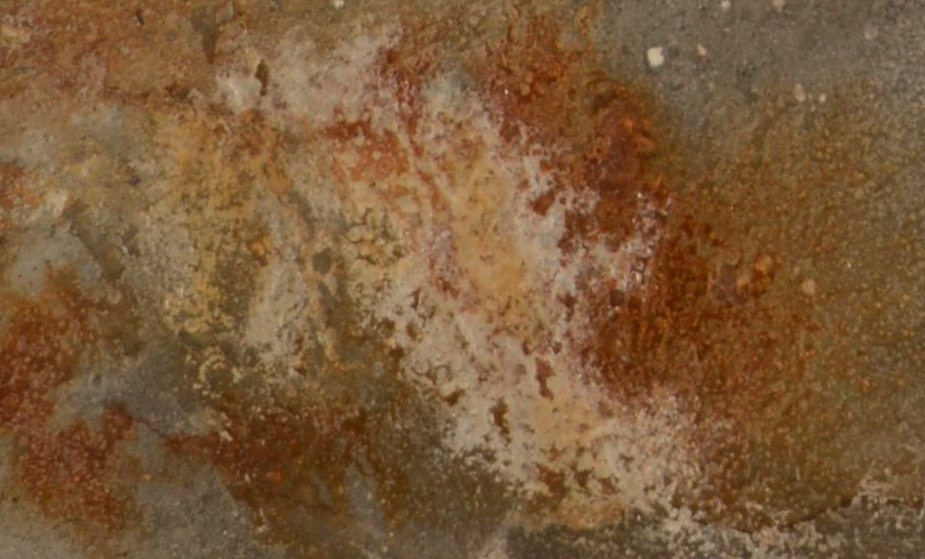Corrosion: (1, 1, 925, 559)
